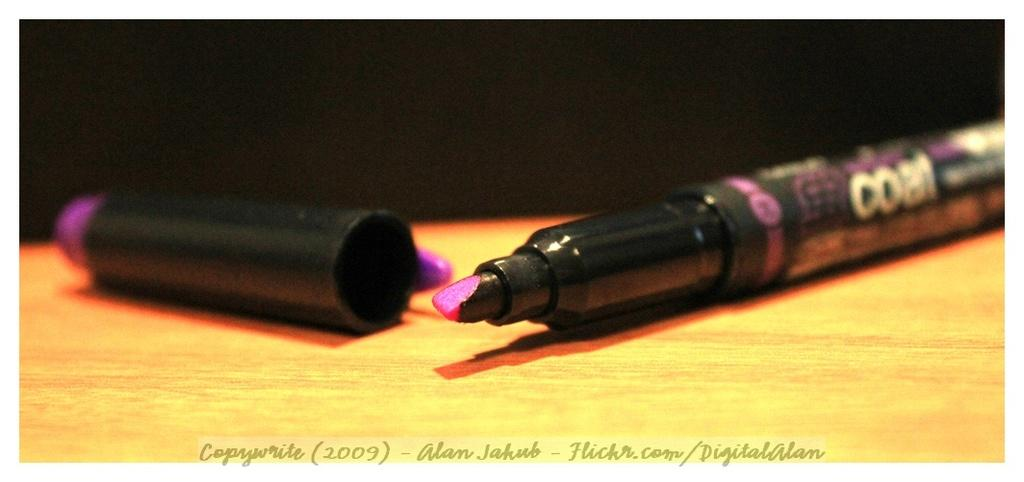pen: (404, 108, 1024, 374)
